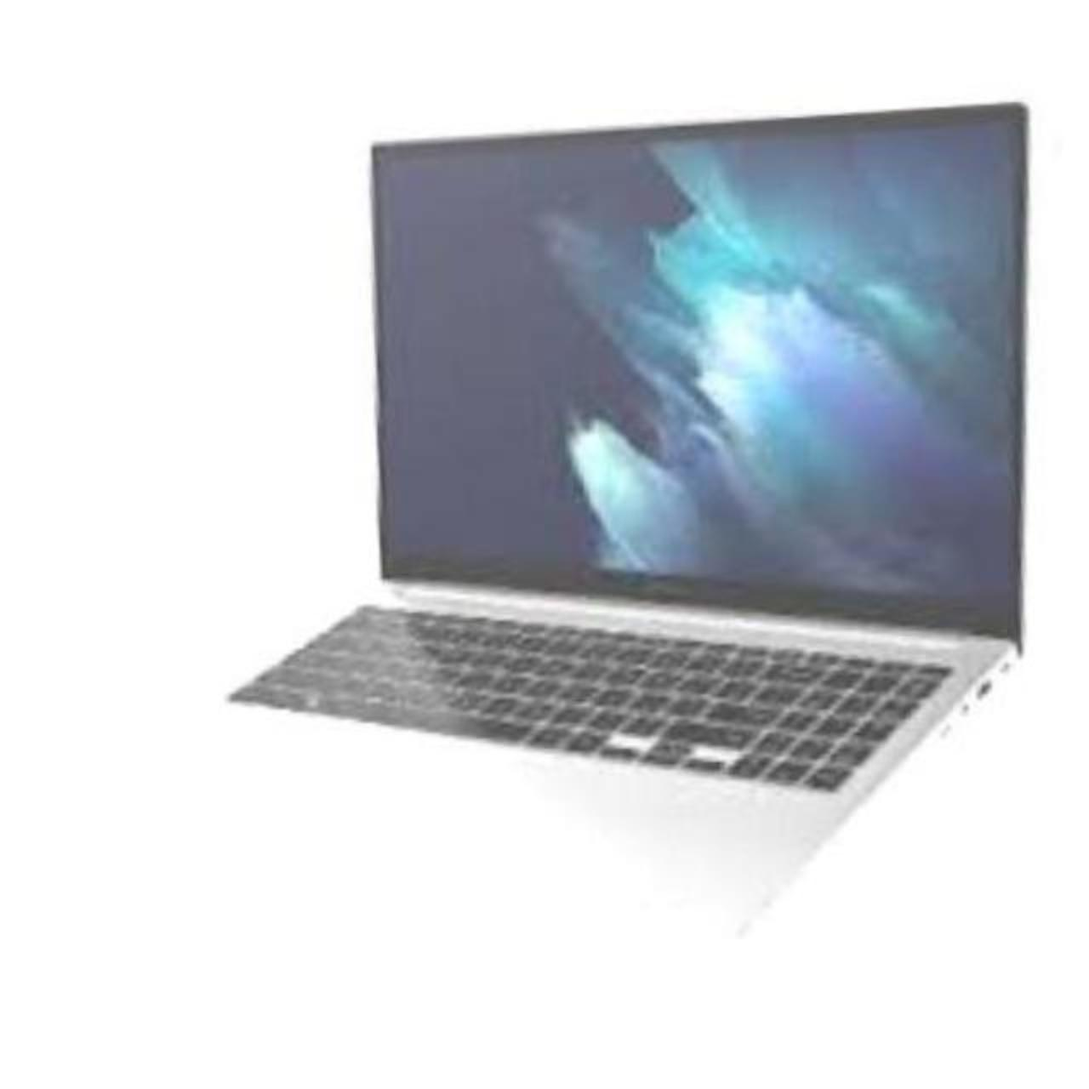laptop: (0, 70, 1089, 995)
